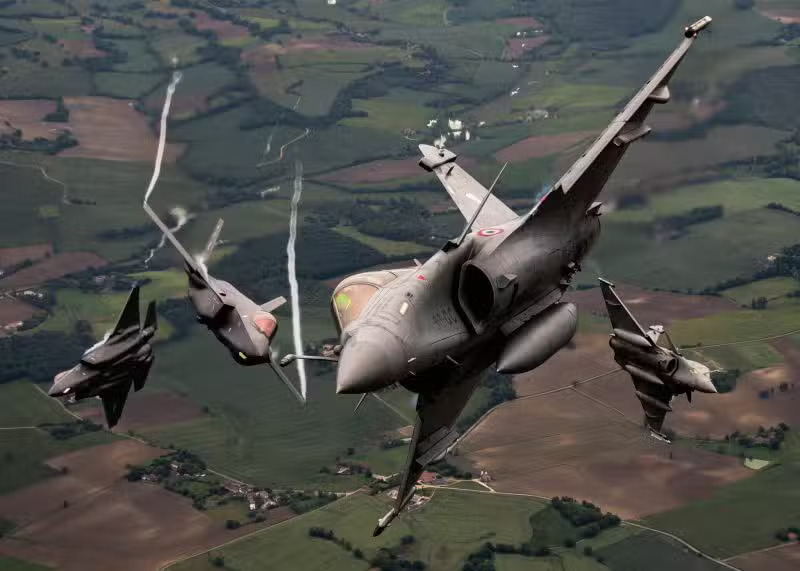F35: (140, 193, 313, 410), (43, 281, 163, 434)
Rafale: (279, 13, 716, 541), (596, 275, 724, 450)
